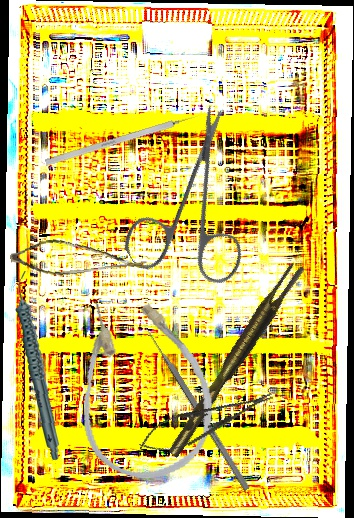Cannula: (60, 282, 226, 490)
Handpiece: (10, 270, 66, 461)
Hook Surgical: (44, 111, 205, 166)
Iris Scissors: (84, 101, 299, 319)
Micro Scissor: (8, 226, 151, 289)
Needle Holder: (133, 380, 279, 463)
Pusher: (139, 319, 251, 492)
Tissue Forceps: (158, 260, 311, 458)
